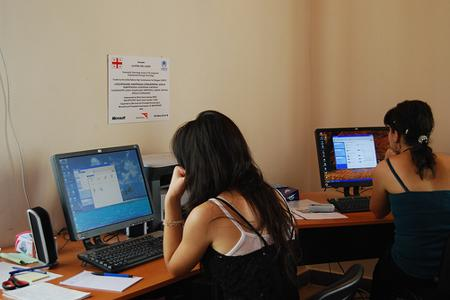person: (163, 110, 300, 300)
